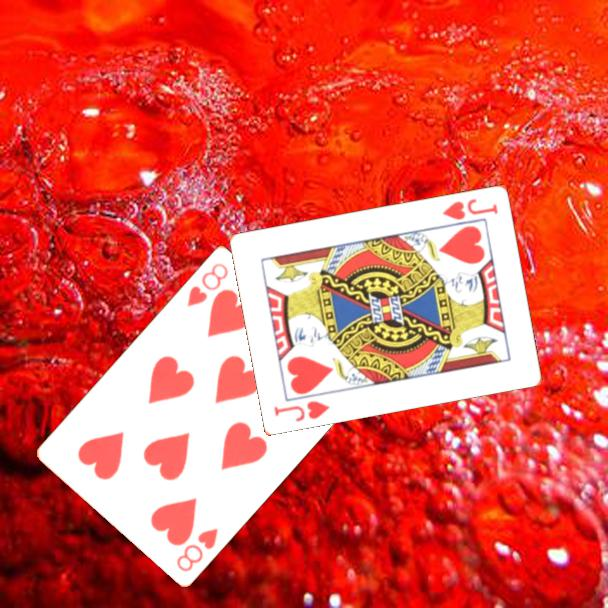h08: (183, 259, 231, 309), (173, 524, 221, 574)
h11: (439, 195, 501, 222), (271, 397, 333, 424)
